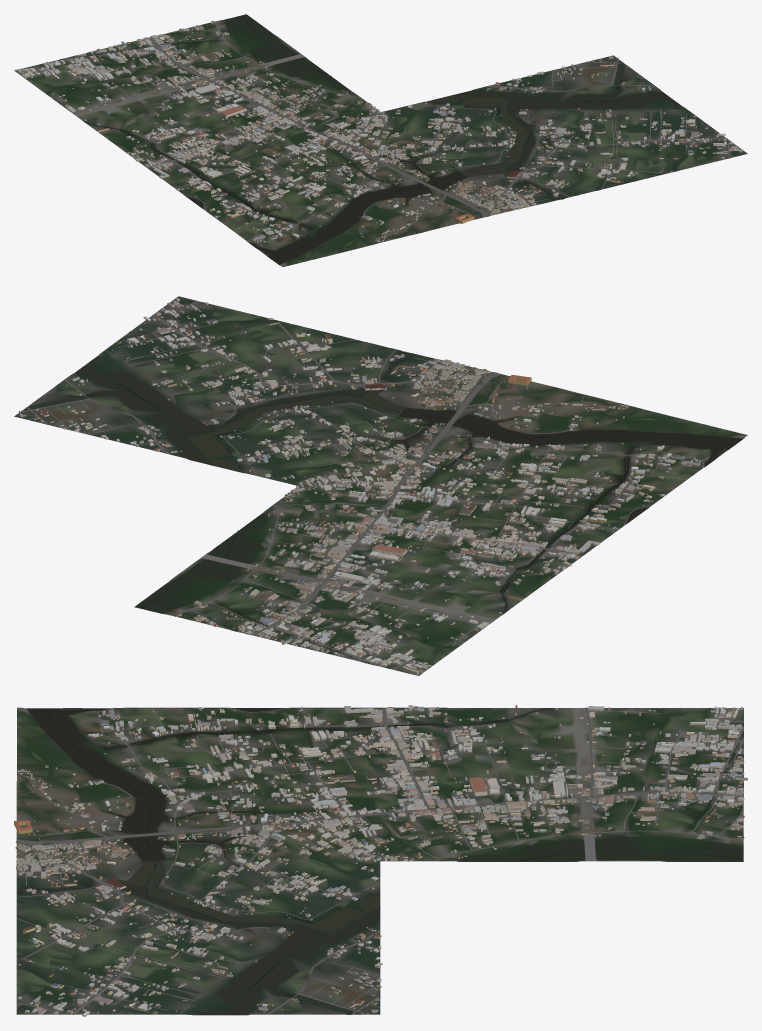
The picture shows the model from 3 angles, top to bottom: view 1: azimuth 30°, elevation 25°; view 2: azimuth 150°, elevation 25°; view 3: azimuth 270°, elevation 25°; orthographic projection. The views are drawn at different scales.
Parts seen in each view (by area): view 1: ground, buildings, water, roads; view 2: ground, buildings, water, roads; view 3: ground, buildings, water, roads.
Boxes of the visible parts, box(x1,y1,x2,y2) form: ground: box(14, 15, 747, 266); buildings: box(15, 21, 743, 242); water: box(58, 14, 730, 264); roads: box(17, 21, 742, 243); ground: box(14, 296, 747, 675); buildings: box(18, 298, 701, 675); water: box(23, 318, 742, 663); roads: box(21, 300, 704, 674); ground: box(16, 707, 743, 1015); buildings: box(14, 705, 747, 1016); water: box(17, 708, 743, 1014); roads: box(16, 707, 743, 1014).
Size of the model in its own units: 2825 by 22.96 by 2828.
